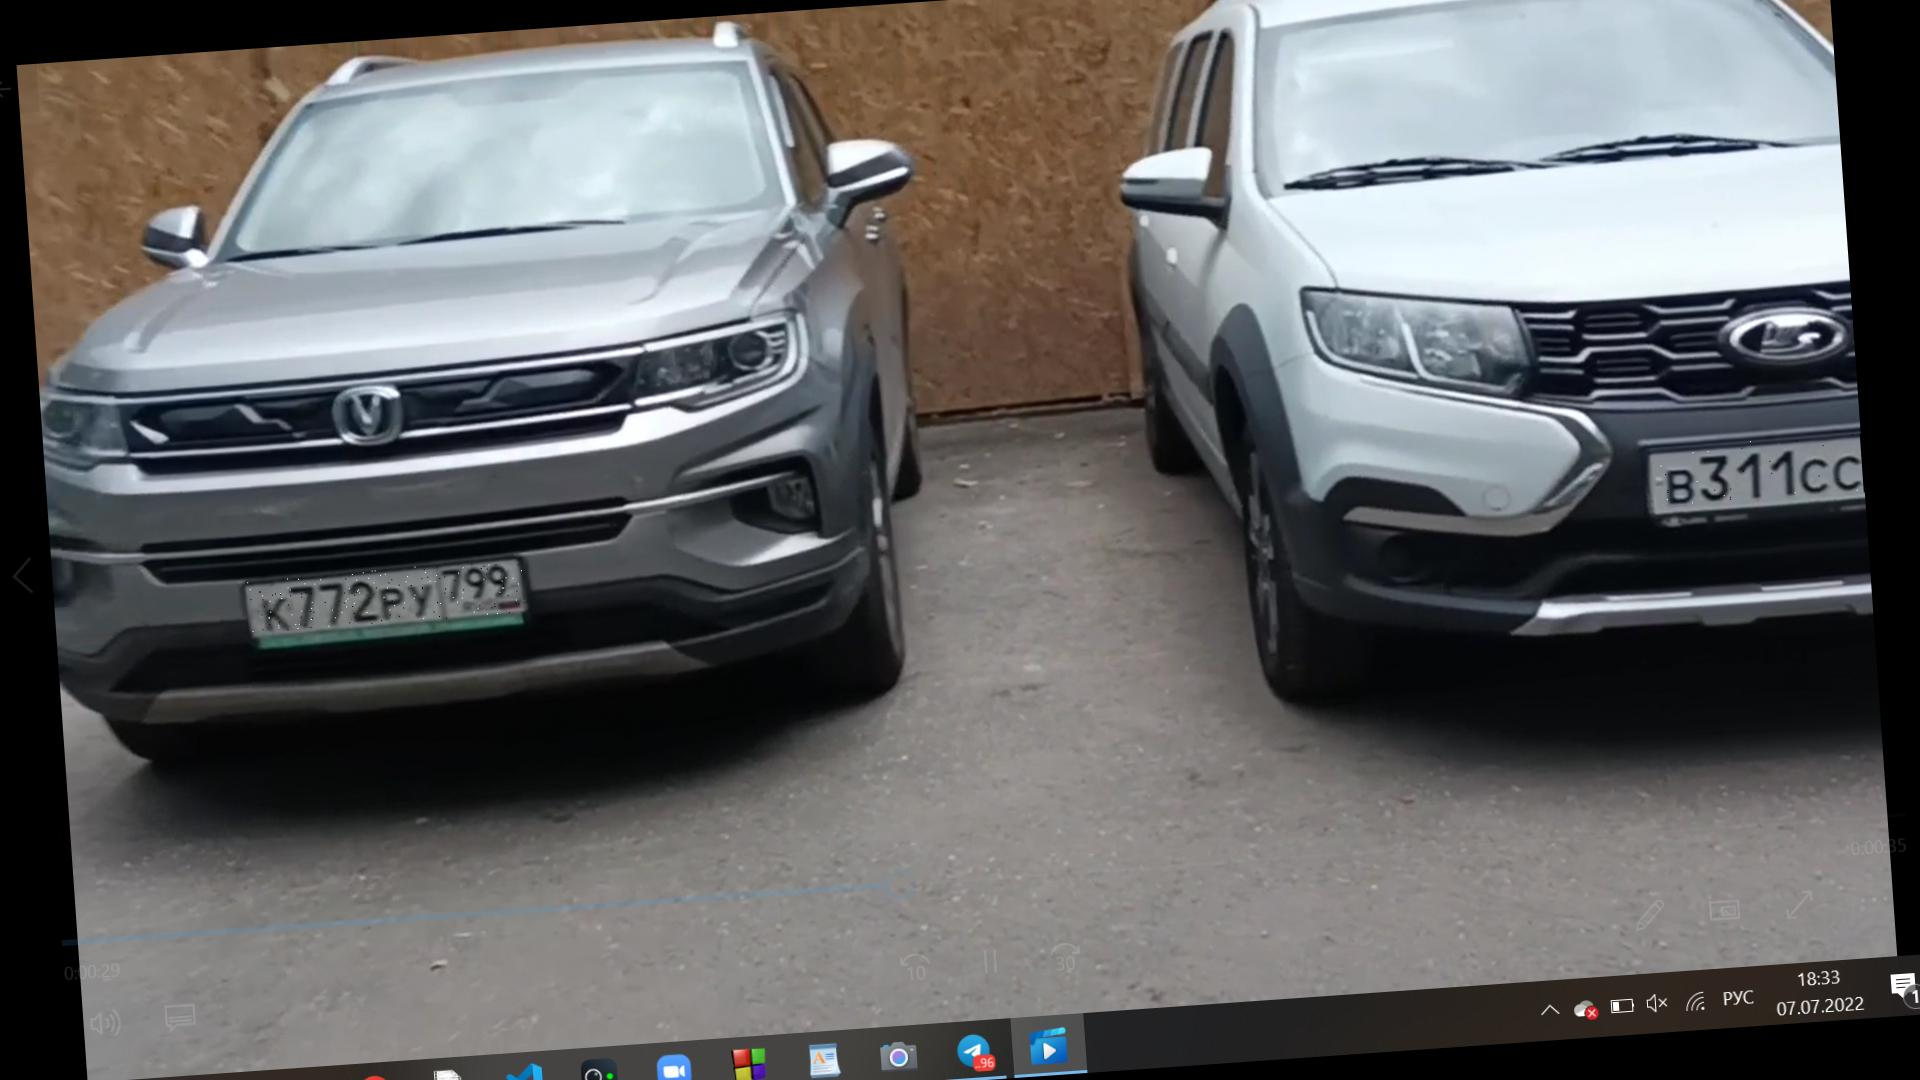plate: (247, 560, 528, 633), (1641, 434, 1876, 509)
